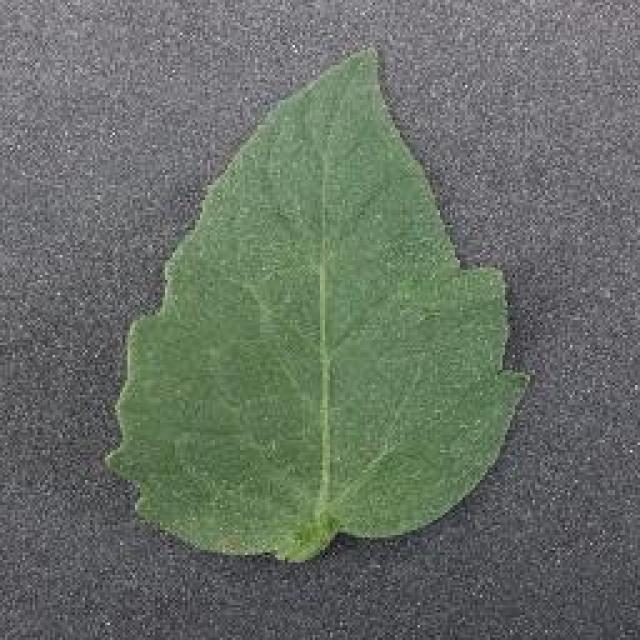Tomato healthy leaf: (118, 48, 532, 572)
